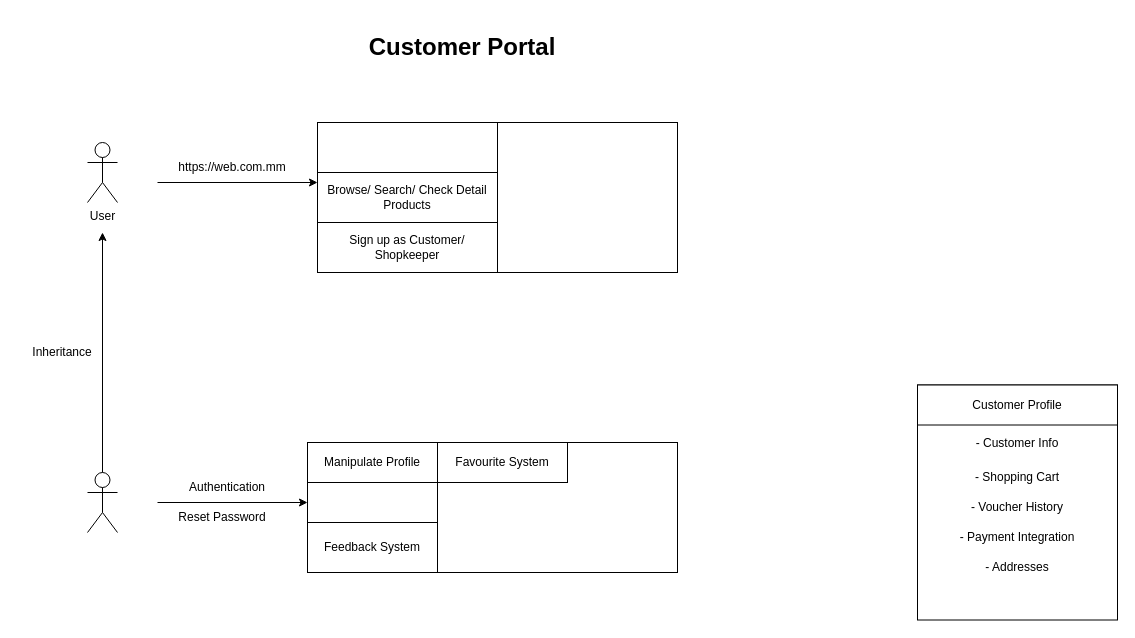
The diagram is 1135 pixels wide and 638 high, and some of its shapes have lost their labels. Each missing label, with the centre of its shape:
Browse/ Search/ Check Detail Shops: the point at 407,147
Customer: the point at 102,502
Payment Integration: the point at 372,502
